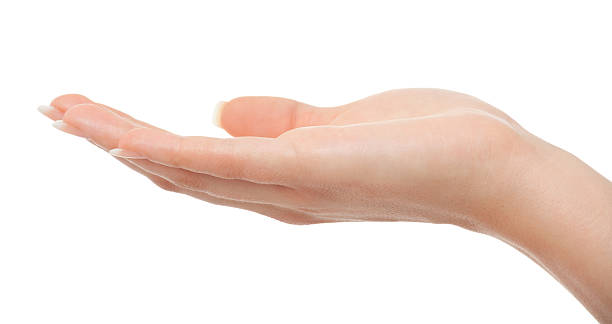non-diseased: (67, 81, 518, 231)
